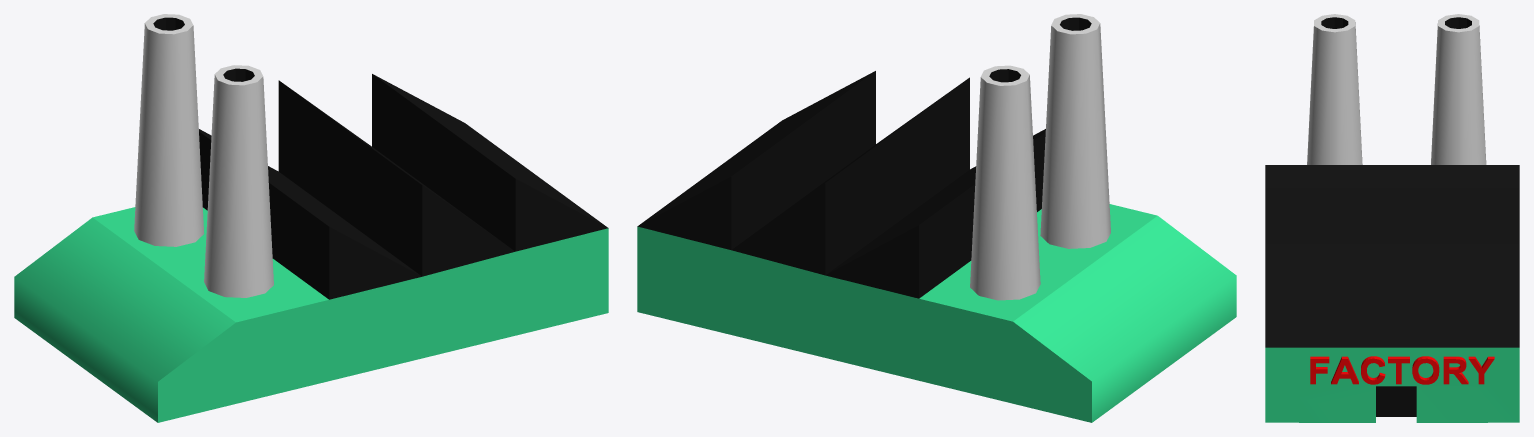
Rendered from fabrica.FBX.
The picture shows the model from 3 angles, left to right: view 1: azimuth 30°, elevation 25°; view 2: azimuth 150°, elevation 25°; view 3: azimuth 270°, elevation 25°; orthographic projection. The views are drawn at different scales.
Parts seen in each view (by area): view 1: Box001; view 2: Box001; view 3: Box001.
Boxes of the visible parts, x1=… form: Box001: x1=14, y1=14, x2=608, y2=422; Box001: x1=637, y1=14, x2=1236, y2=422; Box001: x1=1265, y1=14, x2=1519, y2=422.
Size of the model in its own units: 65.6 by 39.66 by 35.63.
